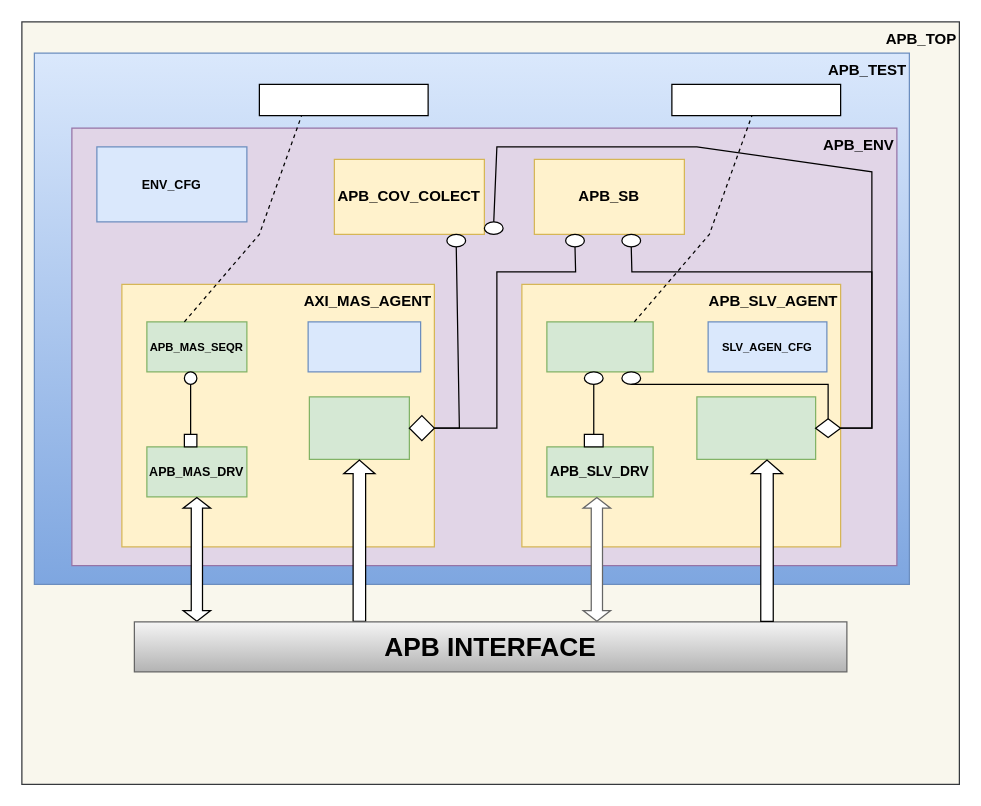
This 981x806 diagram has some shape labels left out. The centre of each missing label's shape, as x and y in pixels:
APB_MAS_MON: point 358,427
APB_MS_SEQ: point 343,99
APB_SLV_MON: point 756,427
APB_SLV_SEQ: point 756,99
APB_SLV_SEQR: point 599,346
MAS_AGEN_CFG: point 364,346
